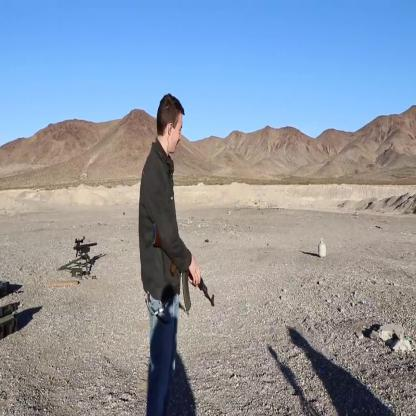long weapon: (148, 218, 220, 316), (67, 224, 107, 274)
